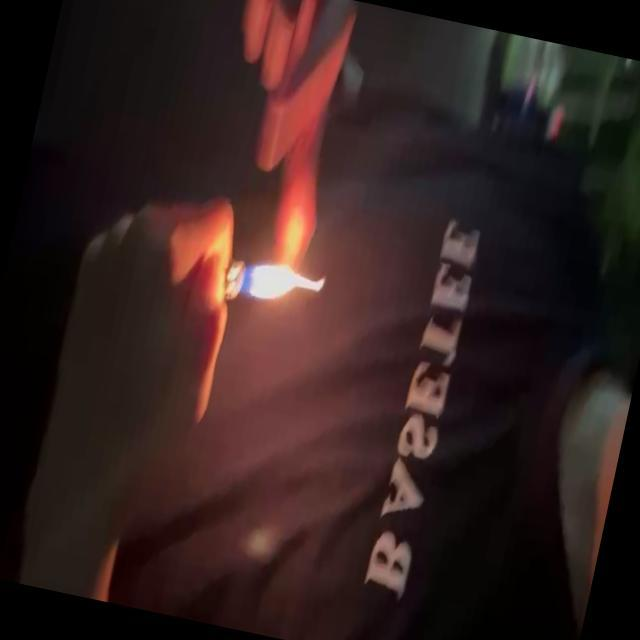Fire: (237, 245, 333, 320)
